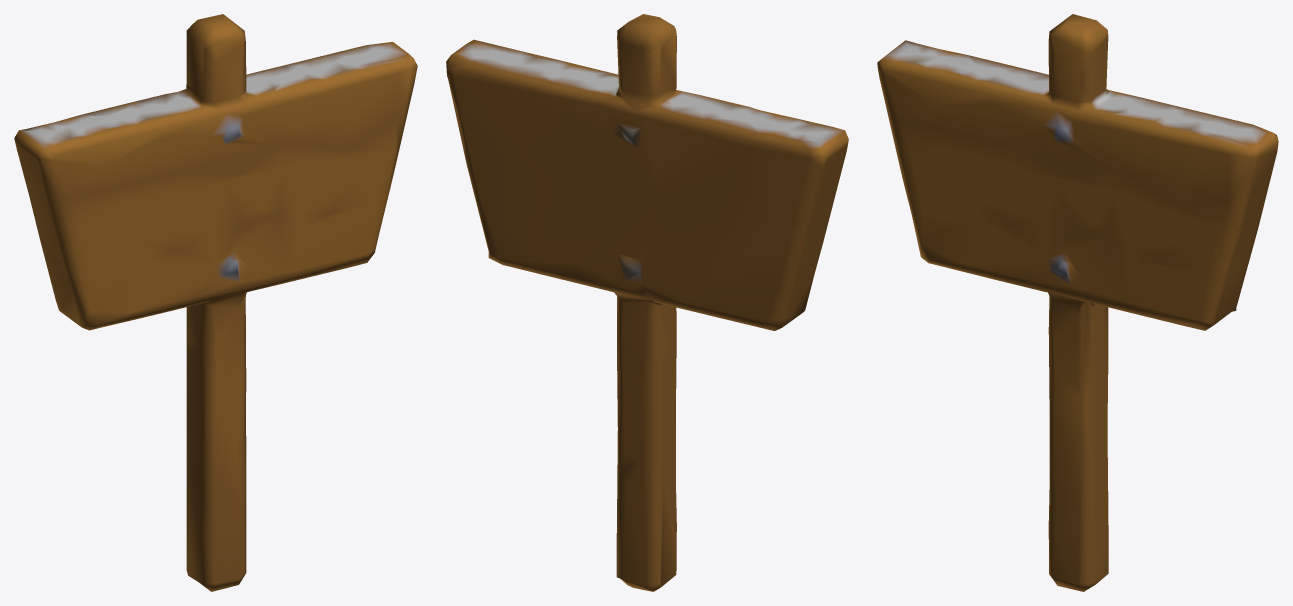
The model's file is gen3d-wooden-signpost-lod0.glb.
3 views of the same model, side by side, from view 1: azimuth 30°, elevation 25°; view 2: azimuth 150°, elevation 25°; view 3: azimuth 330°, elevation 25° (orthographic).
Parts seen in each view (by area): view 1: part_0; view 2: part_0; view 3: part_0.
Boxes of the visible parts, x1,y1,x2,y2 form: part_0: [14, 14, 417, 591]; part_0: [446, 14, 848, 591]; part_0: [877, 14, 1278, 591].
Bounding box in the file's own units: 0.7094 × 0.9999 × 0.1131.
